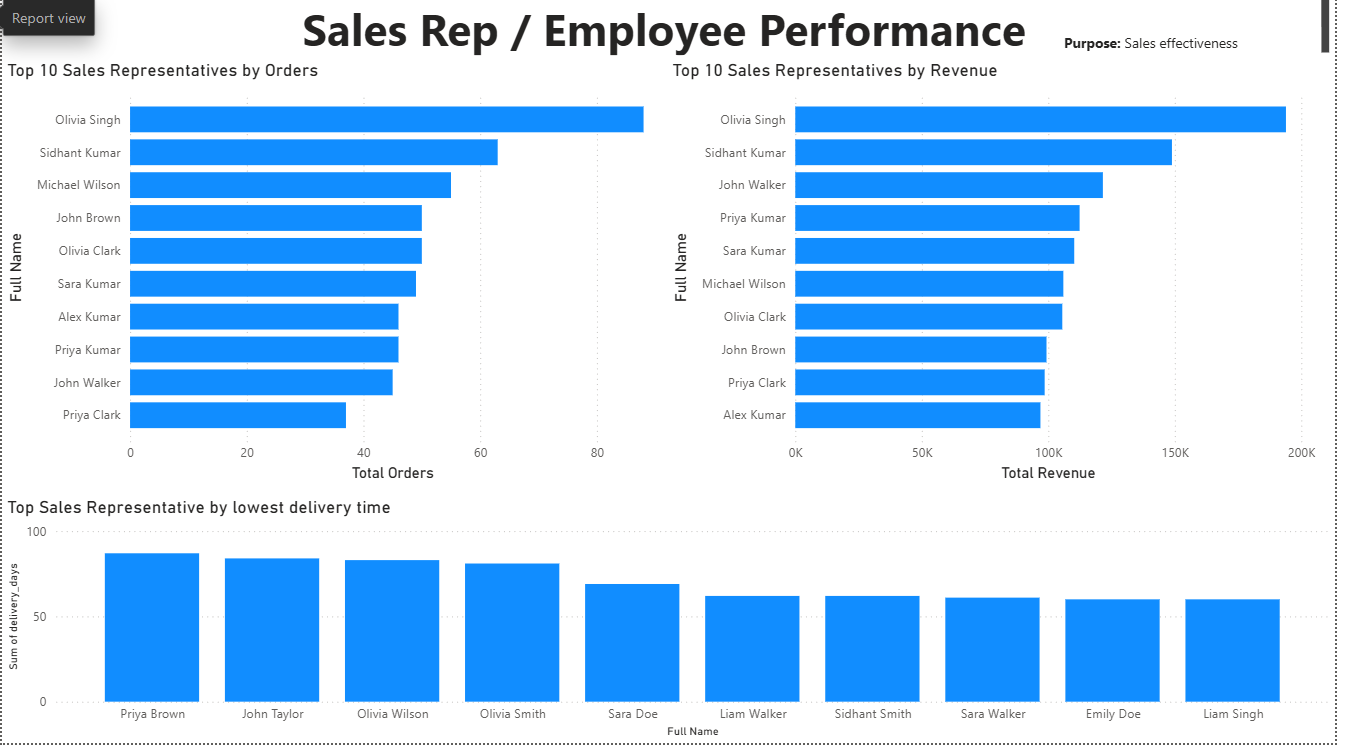

What the dashboard file says about the page in this screenshot:
{"tool":"powerbi","page":{"name":"Page 3","canvas":[1280,720],"ordinal":2},"visuals":[{"type":"textbox","box":[0,0,1280.1,64.6],"z":2000},{"type":"textbox","box":[1015.5,32.9,252,31.7],"z":3000},{"type":"barChart","title":"Top 10 Sales Representatives by Revenue","fields":{"Category":["gold dim_employee.Full Name"],"Y":["gold fact_orders.Total Revenue"]},"box":[639.4,64.6,628,409],"z":4000},{"type":"barChart","title":"Top 10 Sales Representatives by Orders","fields":{"Category":["gold dim_employee.Full Name"],"Y":["gold fact_orders.Total Orders"]},"box":[0,64.6,639.4,409],"z":4001},{"type":"columnChart","title":"Top Sales Representative by lowest delivery time","fields":{"Category":["gold dim_employee.Full Name"],"Y":["gold fact_orders.delivery_days"]},"box":[0,483.7,1280.1,236.8],"z":4002}]}

Visuals, with their boxes on the page's 1280x720 design canvas (x1, y1, x2, y2). These are canvas units, not pixel positions in the 1348x746 screenshot, which may show the page scaled, cropped or inside an application window:
textbox: (x1=0, y1=0, x2=1280, y2=65)
textbox: (x1=1016, y1=33, x2=1268, y2=65)
"Top 10 Sales Representatives by Revenue" barChart: (x1=639, y1=65, x2=1267, y2=474)
"Top 10 Sales Representatives by Orders" barChart: (x1=0, y1=65, x2=639, y2=474)
"Top Sales Representative by lowest delivery time" columnChart: (x1=0, y1=484, x2=1280, y2=720)
